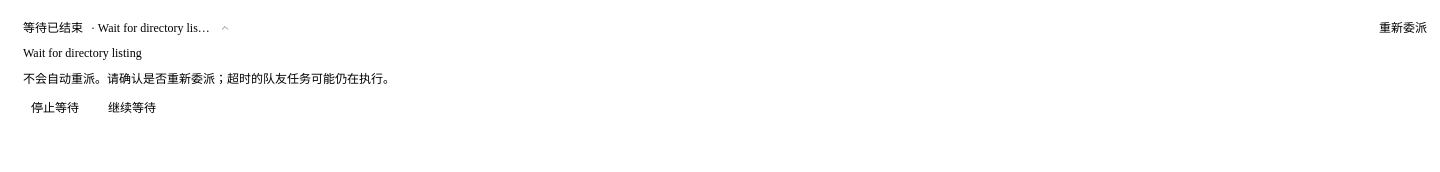
Test: offers stop waiting after timeout without invoking remote cancellation
Click the button "停止等待".
click(55, 108)  # box [23,96,87,120]
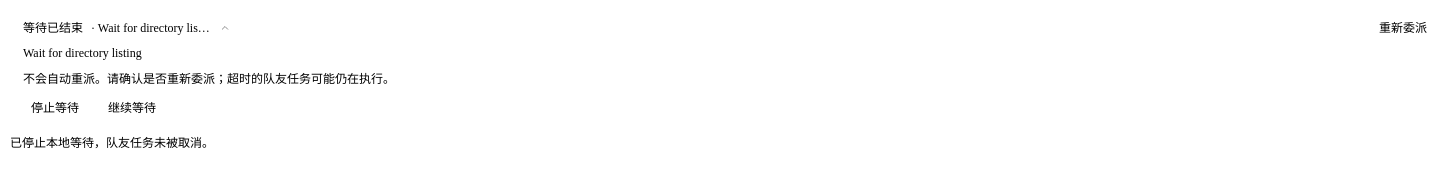
Expected: the message shows "队友任务未被取消", [10,136,214,150]
